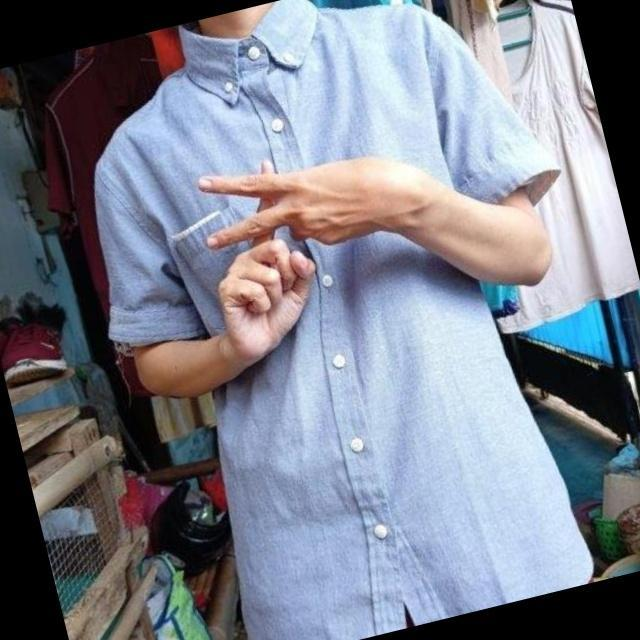F: (188, 149, 376, 359)
